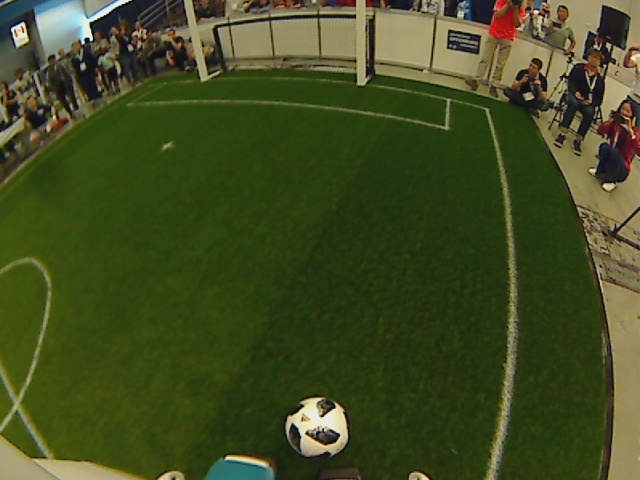ball: (282, 396, 350, 459)
